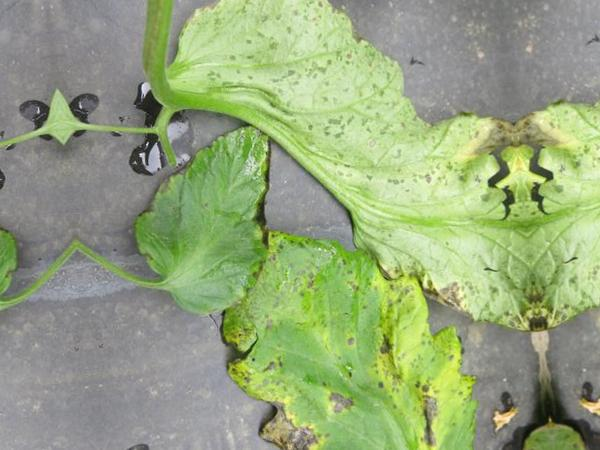Tomato leaf bacterial spot: (211, 199, 478, 450)
